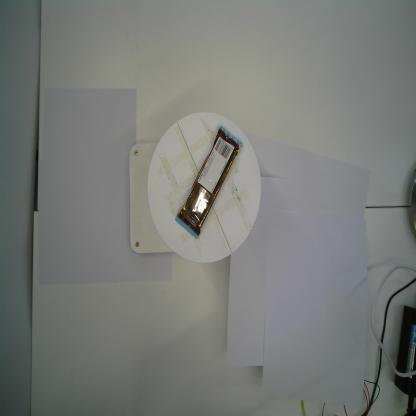Chocolate: (174, 123, 244, 241)
